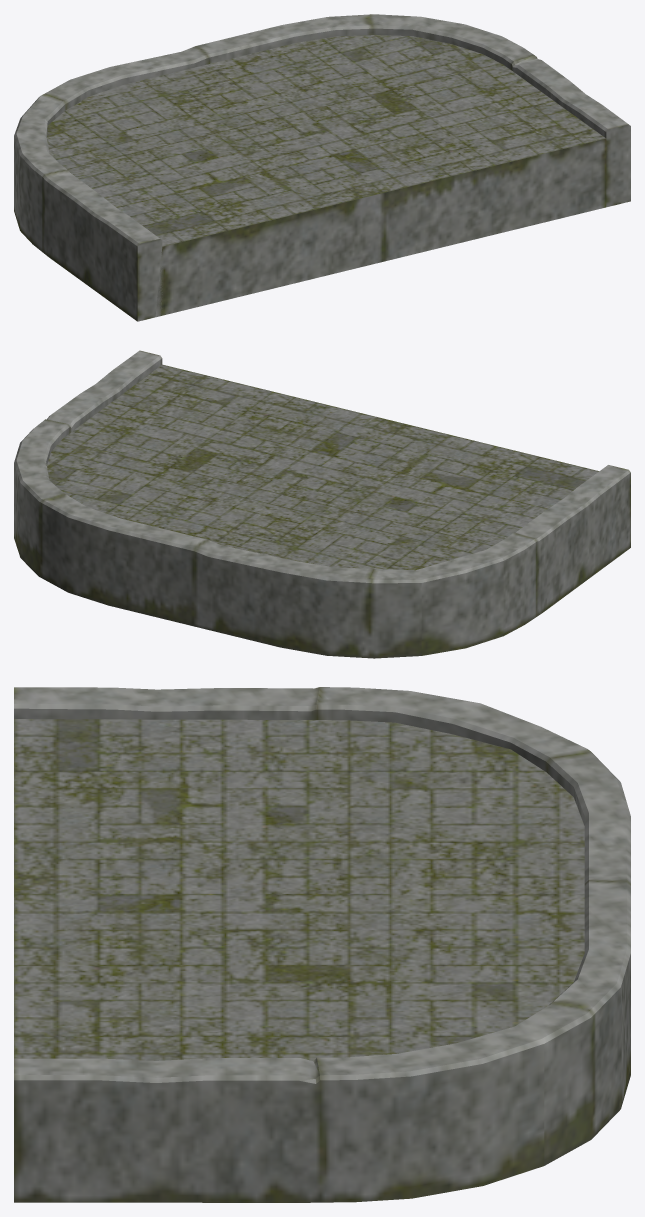
Rendered from stone_end.fbx.
3 renders of one model, top to bottom at view 1: azimuth 30°, elevation 25°; view 2: azimuth 150°, elevation 25°; view 3: azimuth 270°, elevation 25°, orthographic. The views are drawn at different scales.
Visible parts, largest first — view 1: stone_end; view 2: stone_end; view 3: stone_end.
Part boxes in pixels (x1,y1,x2,y2): stone_end: [14, 14, 630, 321]; stone_end: [14, 350, 630, 658]; stone_end: [14, 687, 630, 1202].
Bounding box in the file's own units: 401 × 60 × 267.
